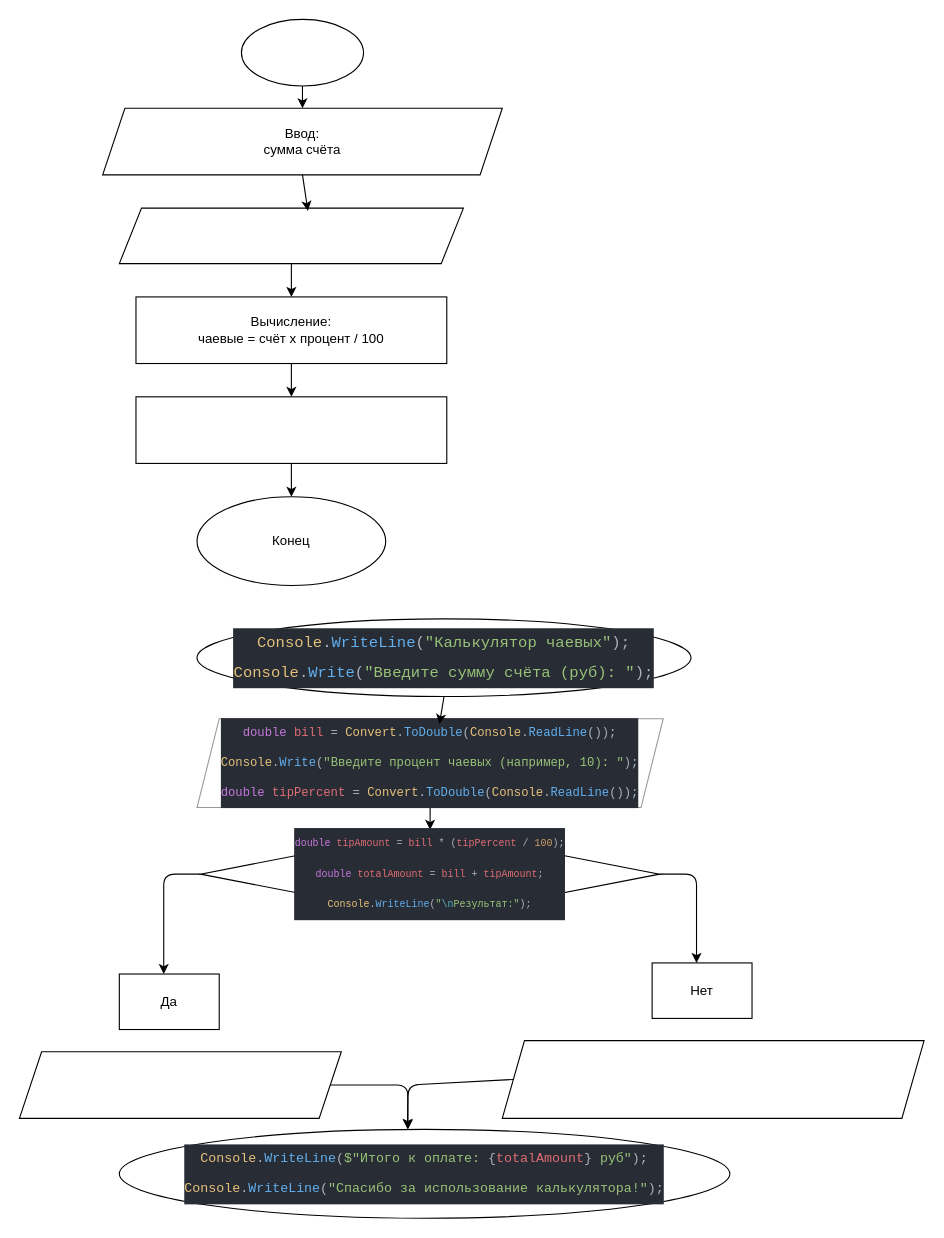
Image size: 944x1238. Some labels were removed from this diagram. Each missing label, with the box of its shape:
Console . WriteLine ( $" Сумма счёта: { bill } руб " );: (18, 1051, 341, 1118)
Console . WriteLine ( $" Чаевые ( { tipPercent } %): { tipAmount } руб " );: (501, 1040, 924, 1118)
Ввод: процент чаевых: (118, 207, 463, 264)
Вычисление: итого = счёт + чаевые: (135, 396, 447, 463)
Начало: (240, 18, 364, 86)
